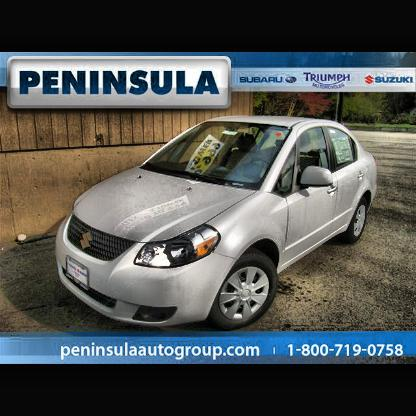Suzuki SX4 Sedan 2012: (53, 113, 383, 332)
